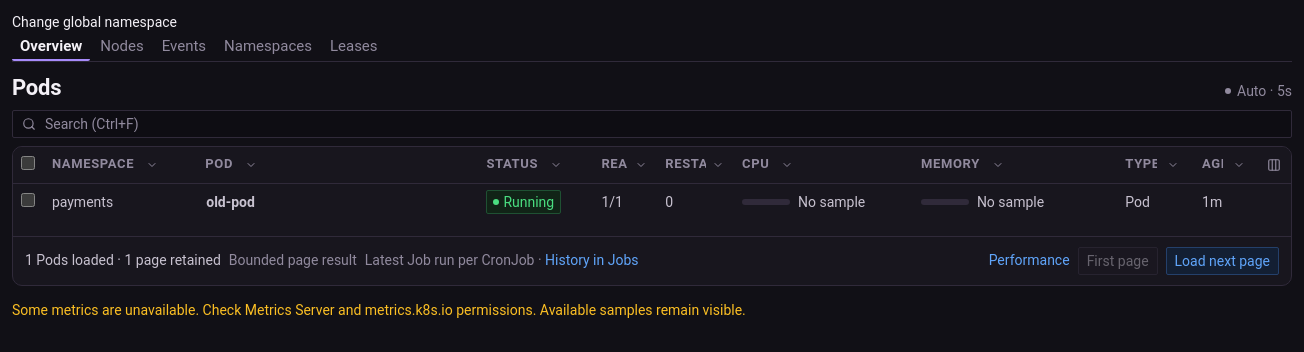
Test: read-only resource pages › replaces accumulated Pods when a continuation expires
Expected: the button with aria-label "Open Pod old-pod in payments" is shown, [205,188,264,216]
Click the button "Load next page" at (1222, 260), box [1166,246,1279,274]
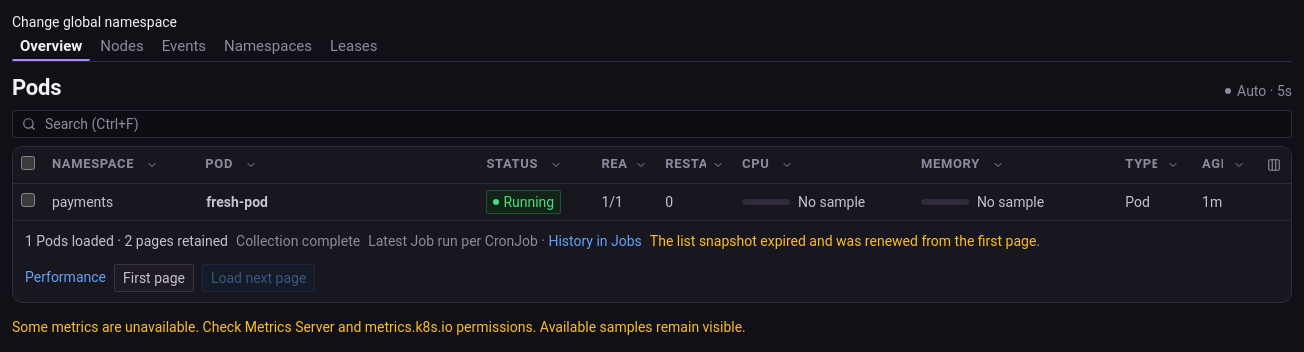
Now the button with aria-label "Open Pod fresh-pod in payments" is shown, box [205,188,277,216]
Now the message shows "snapshot expired", box [650,232,1040,248]
